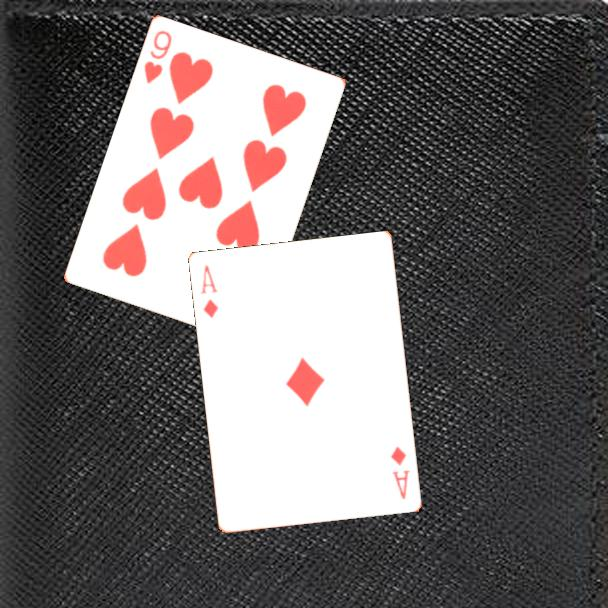d01: (387, 443, 413, 502), (197, 262, 222, 321)
h09: (141, 27, 175, 87)
